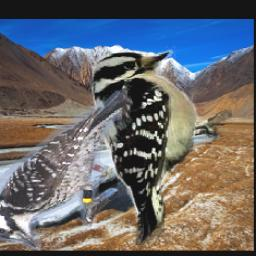Woodpecker: (88, 46, 233, 245), (0, 91, 127, 250)
